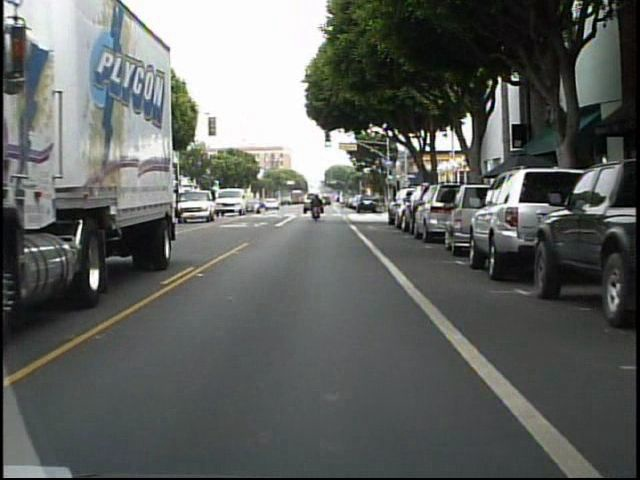person: (310, 192, 324, 222)
